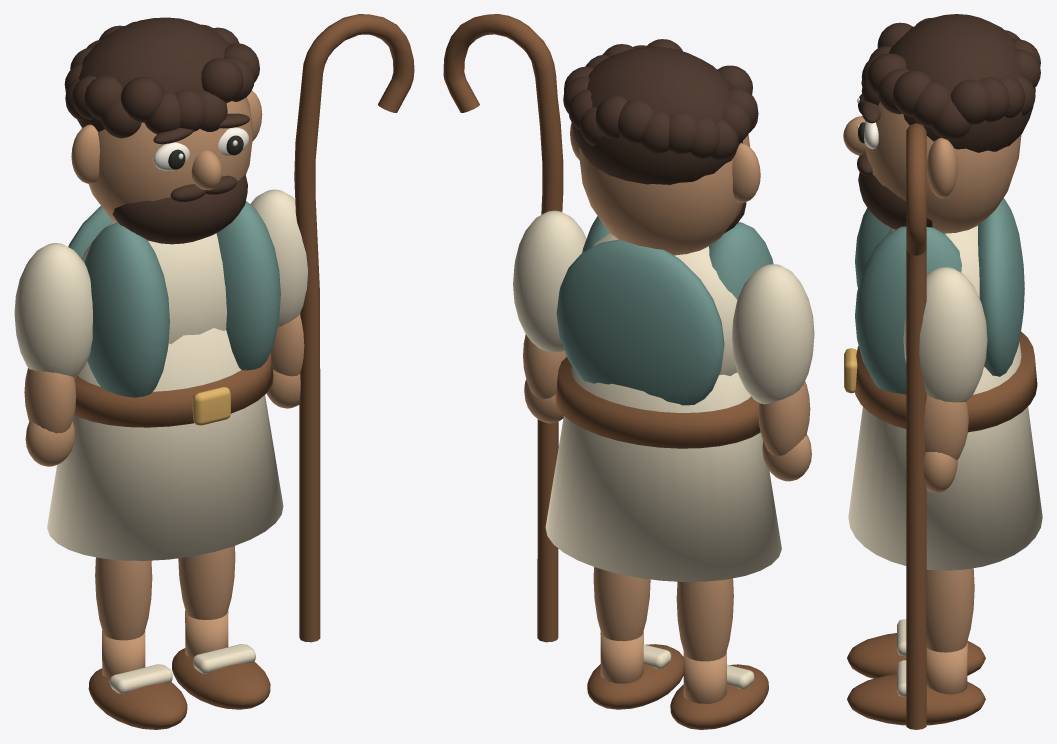
Rendered from shepherd-prototype.glb.
3 views of the same model, side by side, from view 1: azimuth 30°, elevation 25°; view 2: azimuth 150°, elevation 25°; view 3: azimuth 270°, elevation 25° (orthographic).
Parts seen in each view (by area): view 1: Linen tunic, Crook, Vest panel, SleeveL, Hair cap, Vest panel.001, Head, Belt, Torso, Beard, CalfL, SleeveR (+22 smaller); view 2: Linen tunic, Vest back, Hair cap, Crook, Head, SleeveL, Belt, SleeveR, CalfL, CalfR, SandalL, SandalR (+17 smaller); view 3: Linen tunic, Crook, Hair cap, Vest panel.001, Head, SleeveR, Vest back, Belt, SandalR, CalfR, ForearmR, SandalL (+23 smaller).
Boxes of the visible parts, x1,y1,x2,y2 form: Linen tunic: (47, 328, 283, 560); Crook: (294, 14, 414, 642); Vest panel: (84, 222, 169, 397); SleeveL: (14, 243, 92, 378); Hair cap: (77, 17, 229, 131); Vest panel.001: (216, 201, 280, 370); Head: (88, 97, 252, 222); Belt: (74, 352, 273, 427); Torso: (82, 221, 226, 343); Beard: (112, 175, 247, 244); CalfL: (95, 557, 152, 640); SleeveR: (250, 189, 307, 327); Linen tunic: (545, 366, 781, 581); Vest back: (556, 239, 724, 405); Hair cap: (572, 46, 742, 184); Crook: (443, 14, 563, 642); Head: (579, 134, 749, 255); SleeveL: (732, 264, 814, 404); Belt: (555, 357, 760, 448); SleeveR: (513, 210, 586, 352); CalfL: (676, 578, 733, 661); CalfR: (593, 567, 650, 641); SandalL: (670, 664, 768, 729); SandalR: (587, 644, 683, 709); Linen tunic: (848, 341, 1042, 570); Crook: (906, 123, 926, 729); Hair cap: (889, 14, 1035, 152); Vest panel.001: (855, 226, 961, 394); Head: (865, 102, 1021, 233); SleeveR: (903, 267, 987, 402); Vest back: (978, 198, 1024, 376); Belt: (855, 331, 1037, 432); SandalR: (847, 674, 985, 725); CalfR: (926, 568, 974, 652); ForearmR: (924, 396, 968, 460); SandalL: (847, 633, 985, 678).
Size of the model in its own units: 1.37 by 2.3 by 0.6163.
